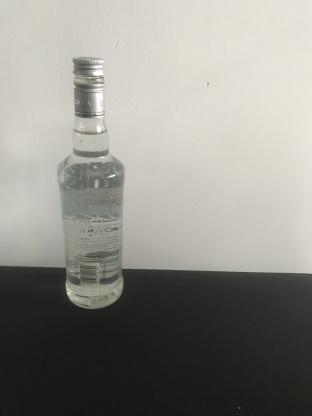nakretka: (71, 55, 106, 117)
